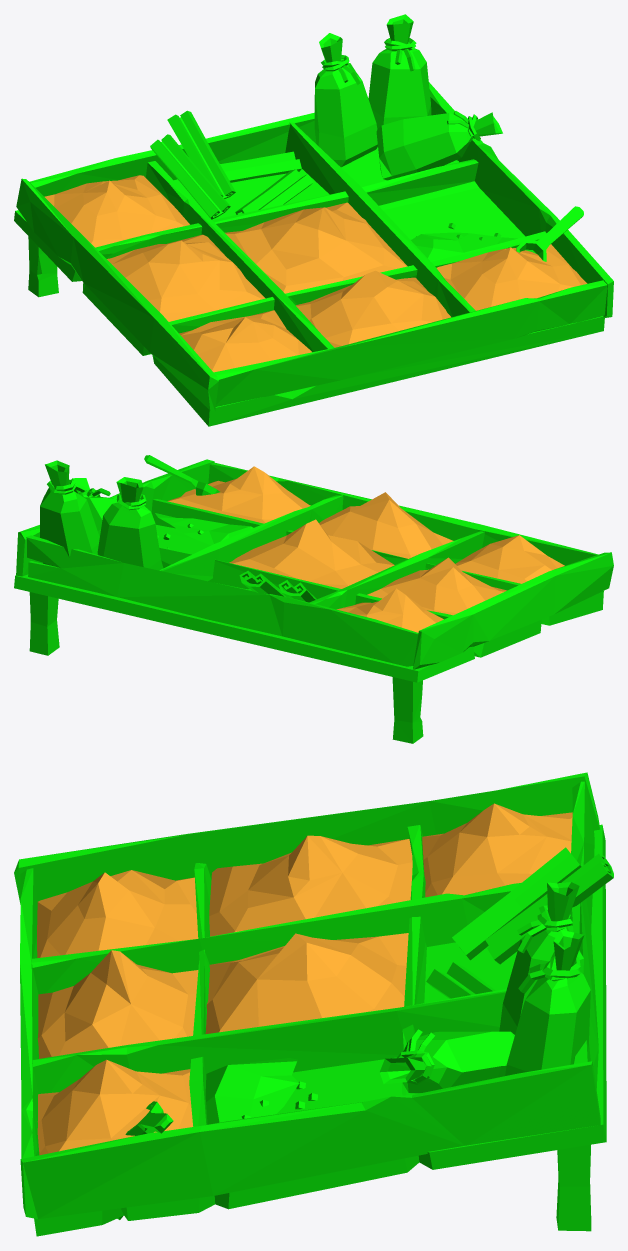
Rendered from SM_Stand_Boxes_Spice_Fantasy.fbx.
3 renders of one model, top to bottom at view 1: azimuth 30°, elevation 25°; view 2: azimuth 150°, elevation 25°; view 3: azimuth 270°, elevation 25°, orthographic. The views are drawn at different scales.
Parts seen in each view (by area): view 1: stand-boxes-spice-fantasy; view 2: stand-boxes-spice-fantasy; view 3: stand-boxes-spice-fantasy.
Part boxes in pixels (bbox=[...]): stand-boxes-spice-fantasy: bbox=[14, 14, 613, 426]; stand-boxes-spice-fantasy: bbox=[14, 455, 613, 743]; stand-boxes-spice-fantasy: bbox=[14, 772, 613, 1236].
Size of the model in its own units: 0.8322 by 0.354 by 0.6814.
